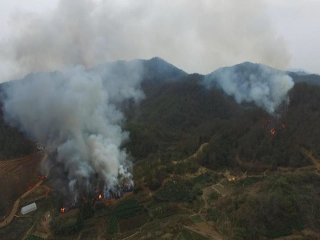smoke: (4, 8, 144, 199), (196, 3, 296, 118)
